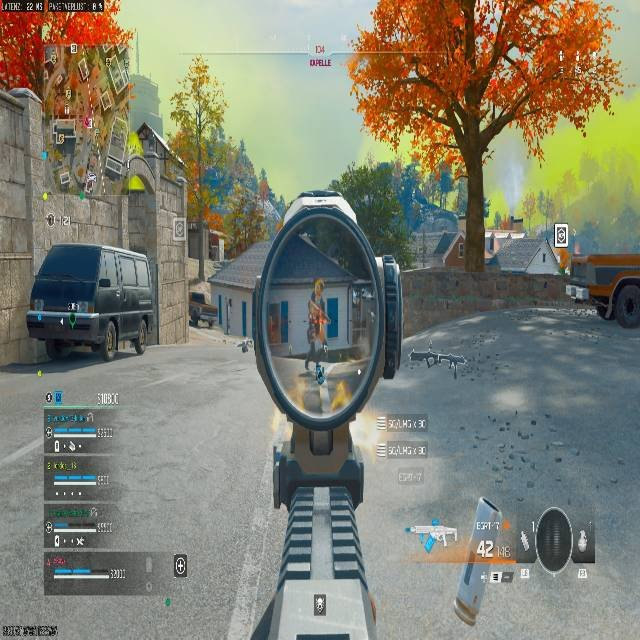player: (302, 300, 329, 379)
